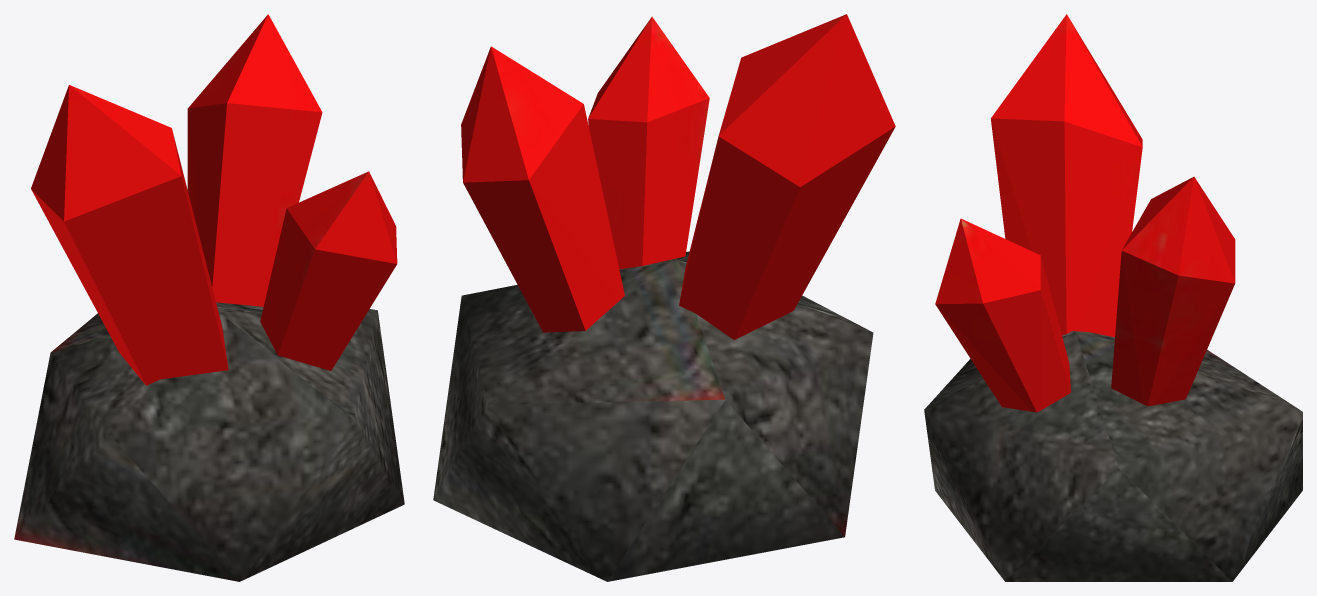
File: RedCrystal.fbx
3 renders of one model, left to right at view 1: azimuth 30°, elevation 25°; view 2: azimuth 150°, elevation 25°; view 3: azimuth 270°, elevation 25°, orthographic. The views are drawn at different scales.
Parts seen in each view (by area): view 1: Crystal; view 2: Crystal; view 3: Crystal.
Part boxes in pixels (<box>): Crystal: <box>14,14,404,581</box>; Crystal: <box>433,14,895,581</box>; Crystal: <box>924,14,1302,581</box>.
Size of the model in its own units: 0.1484 by 0.2061 by 0.1453.
Materials: 1 (1 with a texture image).
